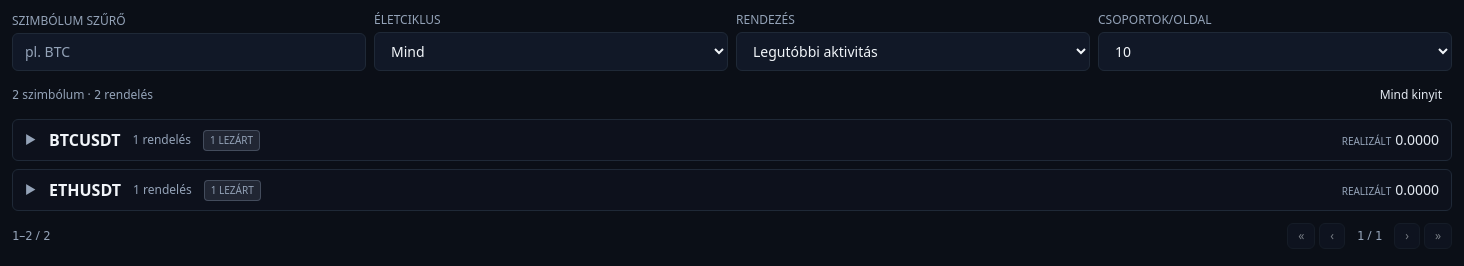
Test: <OrdersTable /> (grouped) › filters by symbol search input
Expected: the text "BTCUSDT" is shown, [49, 128, 120, 152]
Expected: the text "ETHUSDT" is shown, [49, 178, 121, 202]
Type "BTC" into the field labelled "Szimbólum szűrő" at {"x": 189, "y": 52}, box [12, 33, 366, 71]
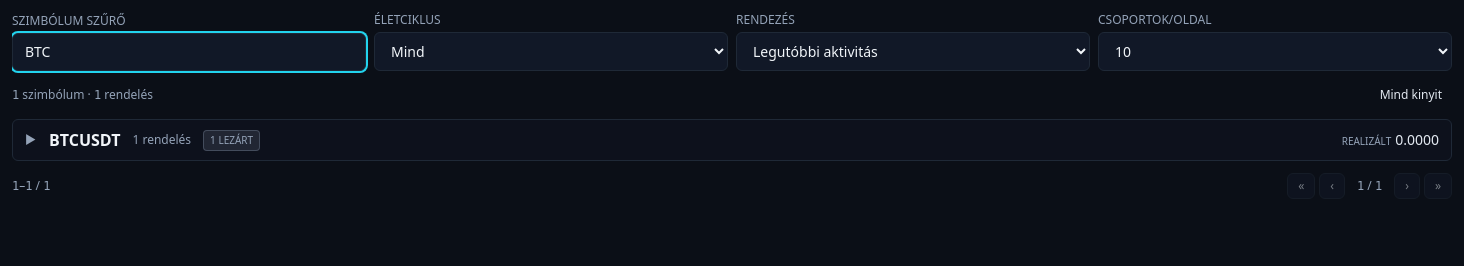
Expected: the text "BTCUSDT" is shown, [49, 128, 120, 152]
Expected: the button "ETHUSDT" is gone
